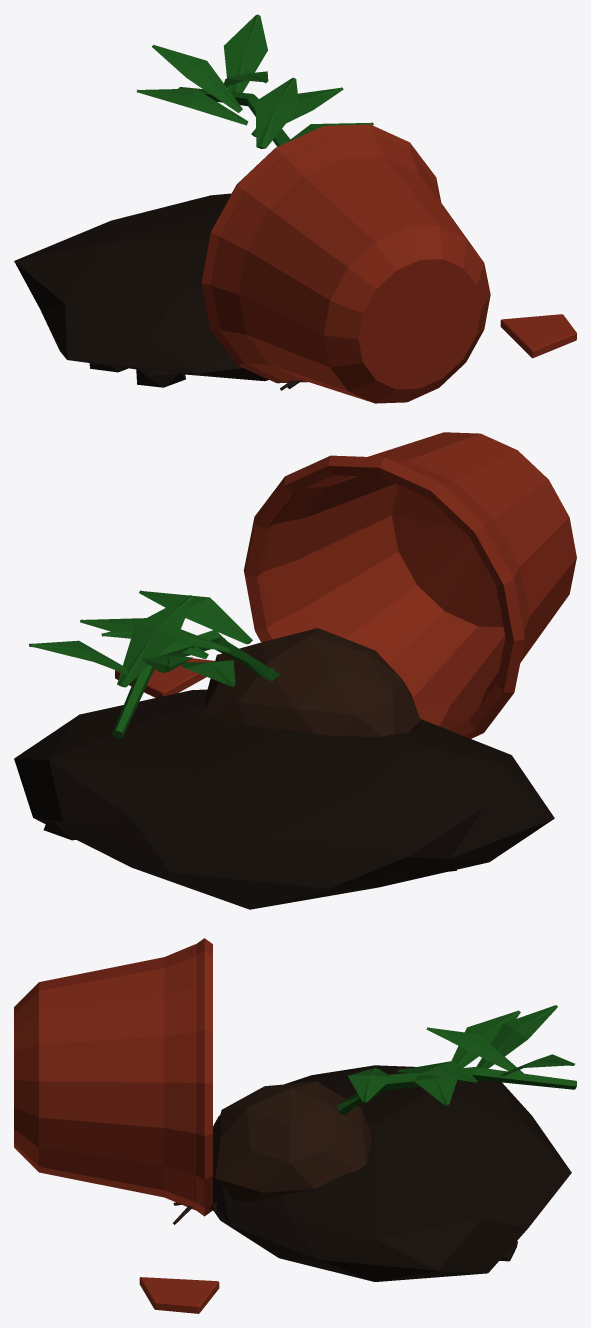
The model's file is DEBRIS_12_UprootedPlanter.obj.
The picture shows the model from 3 angles, top to bottom: view 1: azimuth 30°, elevation 25°; view 2: azimuth 150°, elevation 25°; view 3: azimuth 270°, elevation 25°; orthographic projection. The views are drawn at different scales.
Parts seen in each view (by area): view 1: DEBRIS_12_UprootedPlanter_Pot, DEBRIS_12_UprootedPlanter_Soil_Spill, DEBRIS_12_UprootedPlanter_Stem_Leaves, DEBRIS_12_UprootedPlanter_Rim_Ring, DEBRIS_12_UprootedPlanter_Crack_Chunk; view 2: DEBRIS_12_UprootedPlanter_Soil_Spill, DEBRIS_12_UprootedPlanter_Pot, DEBRIS_12_UprootedPlanter_Root_Ball, DEBRIS_12_UprootedPlanter_Rim_Ring, DEBRIS_12_UprootedPlanter_Stem_Leaves, DEBRIS_12_UprootedPlanter_Crack_Chunk; view 3: DEBRIS_12_UprootedPlanter_Soil_Spill, DEBRIS_12_UprootedPlanter_Pot, DEBRIS_12_UprootedPlanter_Root_Ball, DEBRIS_12_UprootedPlanter_Stem_Leaves, DEBRIS_12_UprootedPlanter_Rim_Ring, DEBRIS_12_UprootedPlanter_Crack_Chunk.
Part boxes in pixels (left/top/right/bottom): DEBRIS_12_UprootedPlanter_Pot: left=211, top=133, right=490, bottom=403; DEBRIS_12_UprootedPlanter_Soil_Spill: left=14, top=193, right=268, bottom=387; DEBRIS_12_UprootedPlanter_Stem_Leaves: left=136, top=14, right=373, bottom=148; DEBRIS_12_UprootedPlanter_Rim_Ring: left=201, top=124, right=441, bottom=383; DEBRIS_12_UprootedPlanter_Crack_Chunk: left=500, top=314, right=576, bottom=358; DEBRIS_12_UprootedPlanter_Soil_Spill: left=14, top=689, right=554, bottom=909; DEBRIS_12_UprootedPlanter_Pot: left=263, top=432, right=576, bottom=728; DEBRIS_12_UprootedPlanter_Root_Ball: left=204, top=628, right=420, bottom=736; DEBRIS_12_UprootedPlanter_Rim_Ring: left=244, top=455, right=524, bottom=738; DEBRIS_12_UprootedPlanter_Stem_Leaves: left=29, top=590, right=280, bottom=738; DEBRIS_12_UprootedPlanter_Crack_Chunk: left=115, top=658, right=214, bottom=697; DEBRIS_12_UprootedPlanter_Soil_Spill: left=213, top=1065, right=571, bottom=1281; DEBRIS_12_UprootedPlanter_Pot: left=14, top=944, right=195, bottom=1210; DEBRIS_12_UprootedPlanter_Root_Ball: left=213, top=1081, right=371, bottom=1202; DEBRIS_12_UprootedPlanter_Stem_Leaves: left=337, top=1005, right=576, bottom=1115; DEBRIS_12_UprootedPlanter_Rim_Ring: left=196, top=938, right=212, bottom=1216; DEBRIS_12_UprootedPlanter_Crack_Chunk: left=139, top=1277, right=219, bottom=1313.
Bounding box in the file's own units: 1 × 0.556 × 1.12.
